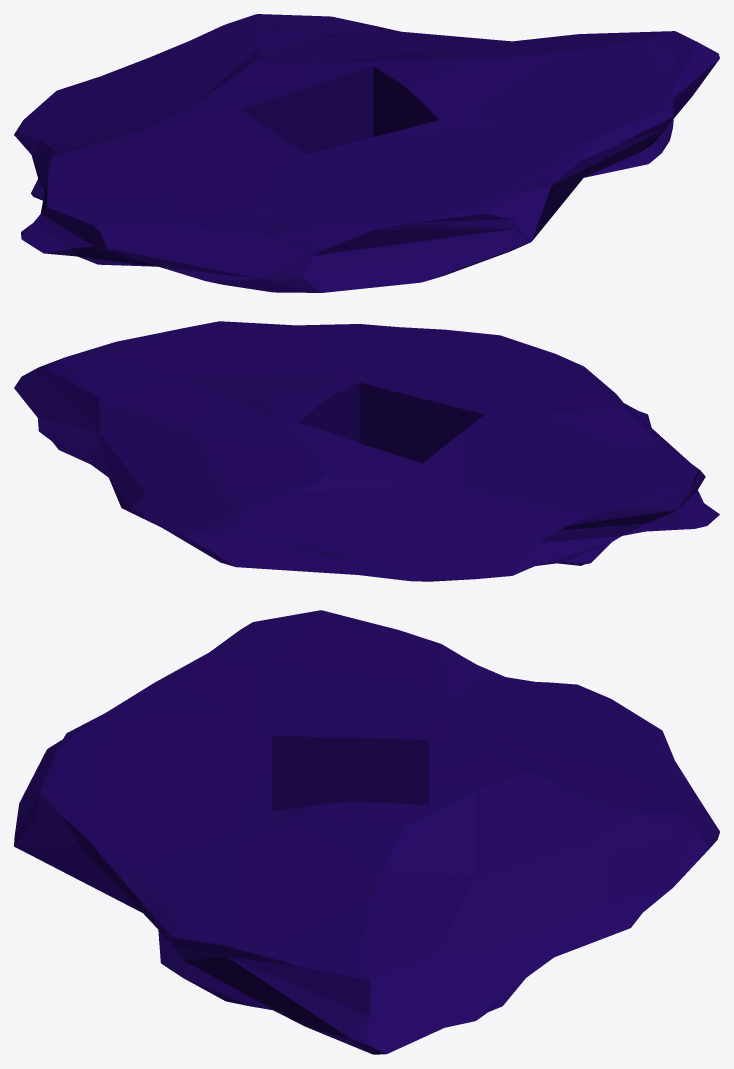
The model's file is startAsteroid2.glb.
3 views of the same model, one above another, from view 1: azimuth 30°, elevation 25°; view 2: azimuth 150°, elevation 25°; view 3: azimuth 270°, elevation 25° (orthographic). The views are drawn at different scales.
Parts seen in each view (by area): view 1: Cube.027; view 2: Cube.027; view 3: Cube.027.
Boxes of the visible parts, x1,y1,x2,y2 form: Cube.027: [14, 14, 719, 292]; Cube.027: [14, 321, 719, 581]; Cube.027: [14, 610, 719, 1054].
Size of the model in its own units: 3.74 by 0.4648 by 2.7.
